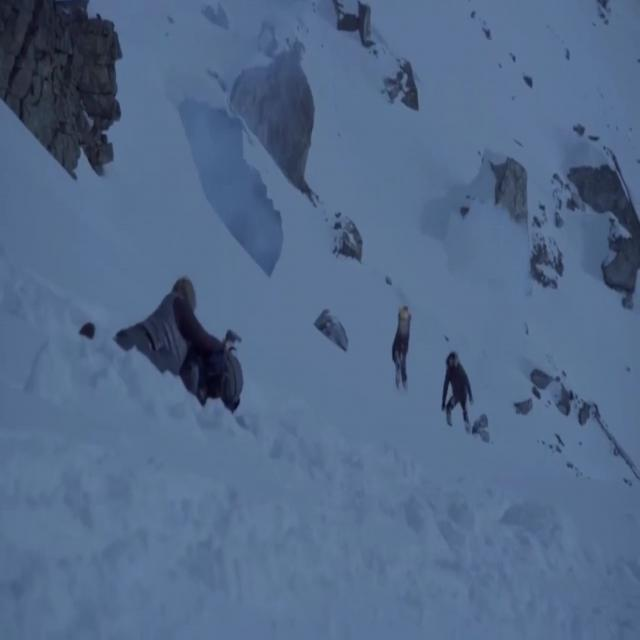gun-knife-thesis - v11 Yolov5 augmented: (224, 320, 242, 354)
